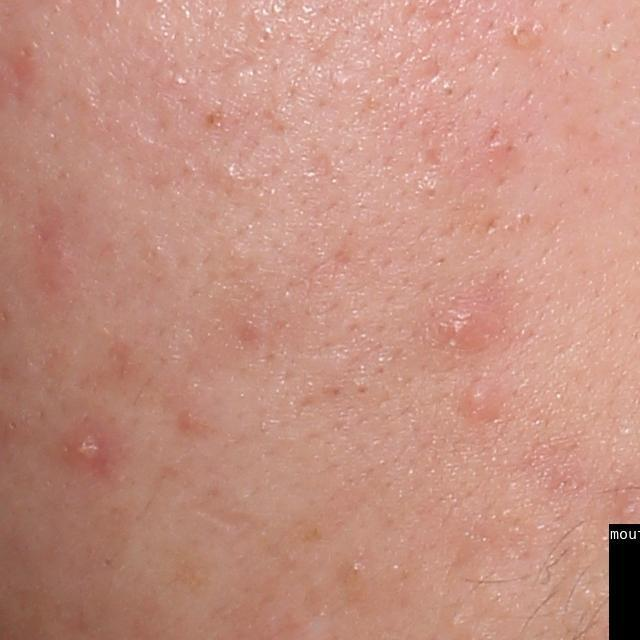papule: (444, 308, 493, 353), (463, 381, 499, 416)
